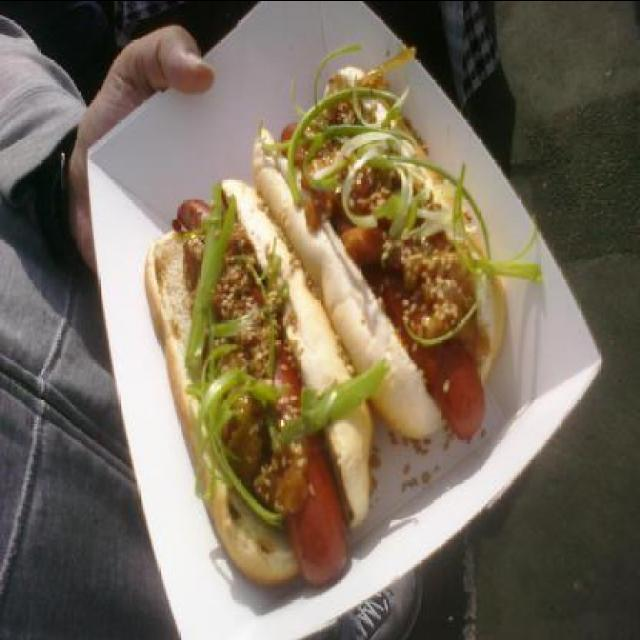Hot dog: (246, 38, 543, 440)
